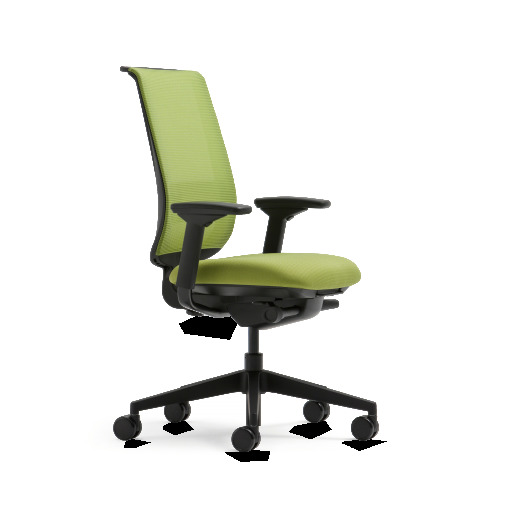chairs: (99, 64, 388, 453)
